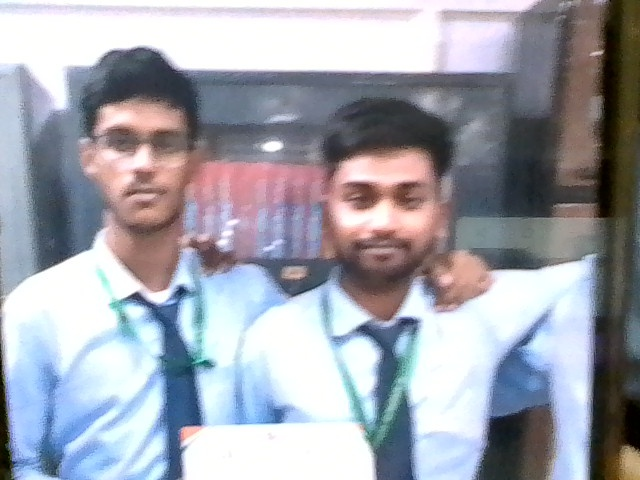real: (318, 101, 456, 296), (83, 65, 199, 229)
